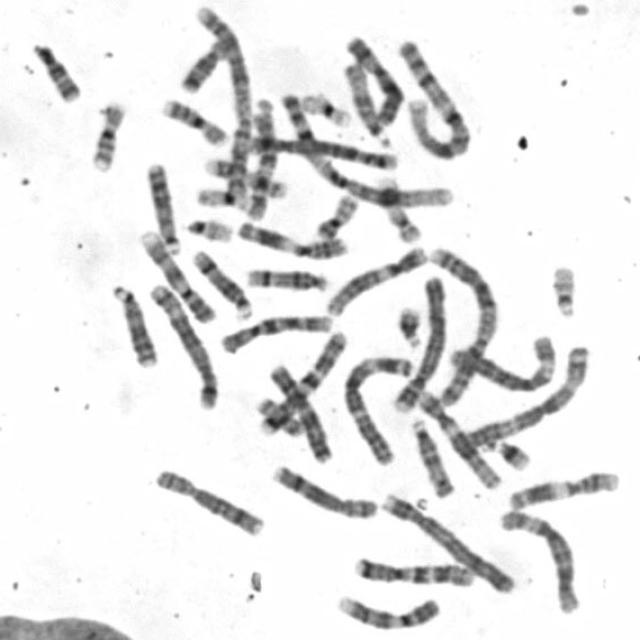A1: (283, 92, 460, 212), (394, 35, 472, 162)
A2: (190, 1, 253, 217), (424, 244, 501, 408)
A3: (461, 340, 594, 450), (338, 350, 414, 467)
B4: (378, 489, 517, 595), (389, 272, 448, 414)
B5: (145, 279, 221, 411), (245, 133, 402, 171)
C10: (217, 309, 333, 356), (243, 110, 281, 224)
C11: (504, 467, 622, 511), (234, 218, 350, 261)
C12: (413, 386, 500, 491), (322, 241, 429, 317)
C6: (497, 506, 582, 616), (441, 332, 560, 396)
C7: (254, 326, 349, 436), (348, 553, 476, 588)
C8: (147, 463, 266, 538), (269, 460, 378, 520)
C9: (137, 228, 217, 324), (332, 590, 442, 632)
D13: (107, 280, 158, 369), (142, 157, 182, 255)
D14: (188, 246, 253, 322), (242, 264, 329, 294)
D15: (340, 58, 391, 149), (406, 415, 457, 500)
E16: (159, 94, 228, 148), (86, 98, 127, 173)
E17: (200, 156, 288, 200), (373, 173, 423, 246)
E18: (176, 34, 232, 94), (36, 43, 83, 105)
F19: (297, 89, 353, 129), (194, 185, 258, 216)
F20: (312, 190, 362, 242), (252, 392, 305, 437)
G21: (489, 435, 532, 473), (393, 302, 424, 349)
G22: (548, 261, 578, 320), (182, 215, 234, 244)
X: (265, 359, 333, 465), (341, 31, 406, 131)
